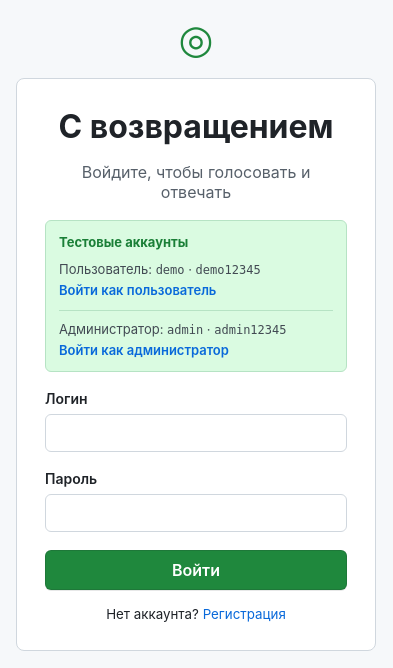
Test: demo login › fills the administrator test account credentials
Click the button "Войти как администратор".
click(144, 350)  # box [59,342,229,358]
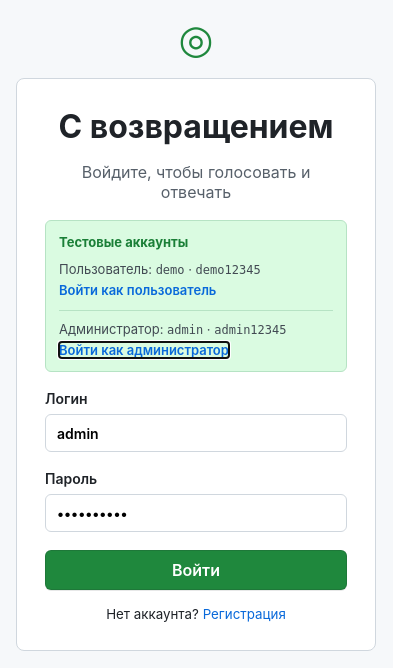
Expected: the field labelled "Логин" holds "admin", [45,414,347,452]
Expected: the password field labelled "Пароль" holds "admin12345", [45,494,347,532]
